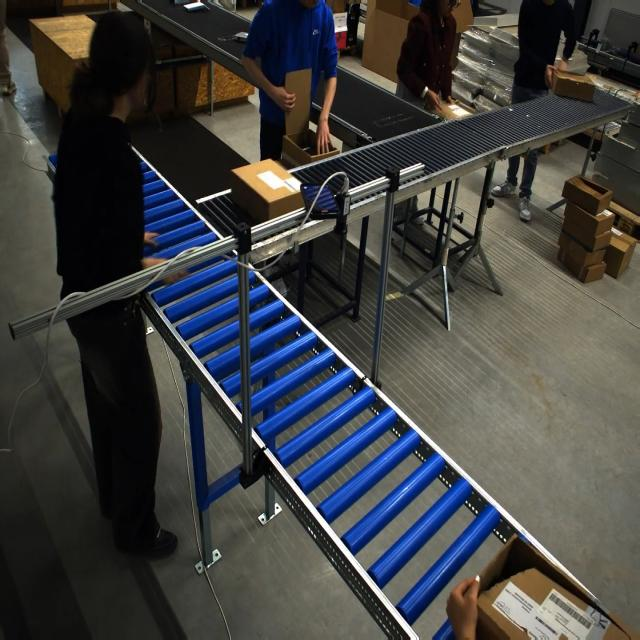box: (230, 158, 308, 223), (552, 70, 596, 102), (431, 100, 475, 121)
product: (183, 1, 209, 12), (232, 32, 249, 43)
